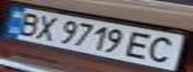1: (87, 24, 109, 52)
7: (72, 20, 93, 48)
9: (54, 17, 81, 46), (106, 26, 127, 56)
B: (9, 9, 45, 36)
C: (142, 34, 190, 65)
E: (124, 29, 160, 61)
X: (27, 12, 63, 42)
